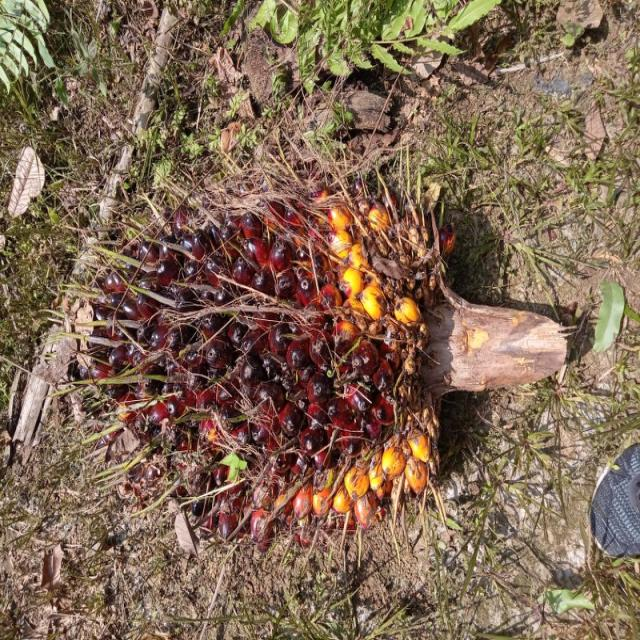fraksi 1: (93, 186, 454, 543)
